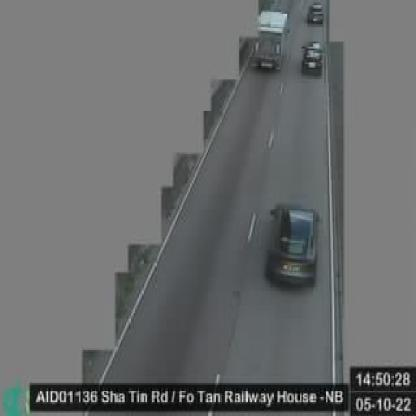Car: (264, 205, 320, 286), (302, 36, 324, 76), (307, 3, 321, 26)
Truck: (250, 9, 288, 69)
